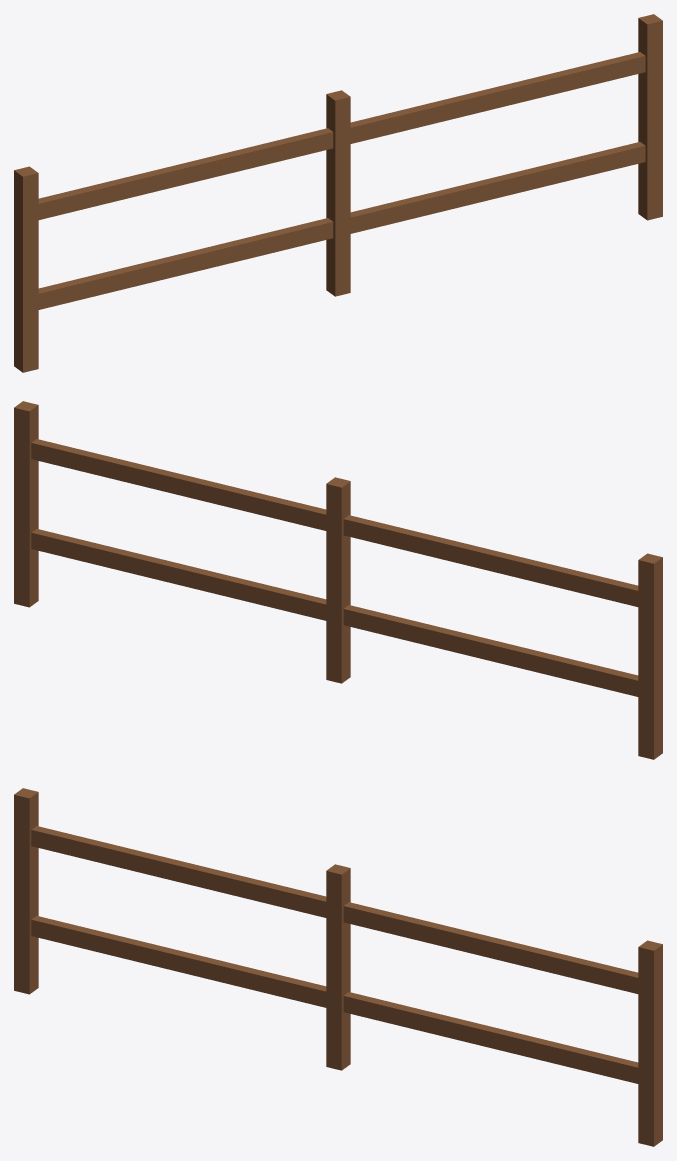
The model's file is Fence_Wood_4m.glb.
3 renders of one model, top to bottom at view 1: azimuth 30°, elevation 25°; view 2: azimuth 150°, elevation 25°; view 3: azimuth 330°, elevation 25°, orthographic.
Parts seen in each view (by area): view 1: Fence_Wood_4m_Wood; view 2: Fence_Wood_4m_Wood; view 3: Fence_Wood_4m_Wood.
Boxes of the visible parts, <box> form: Fence_Wood_4m_Wood: <box>14,14,662,372</box>; Fence_Wood_4m_Wood: <box>14,401,662,759</box>; Fence_Wood_4m_Wood: <box>14,788,662,1146</box>.
Bounding box in the file's own units: 4.1 × 1.2 × 0.1.
